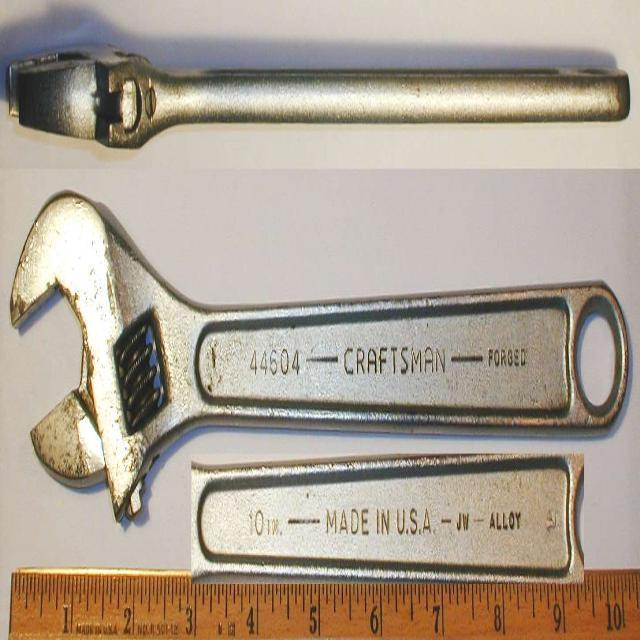wrench: (0, 170, 630, 523), (4, 32, 640, 166)
